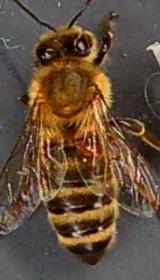varroa_mite: (74, 135, 104, 157)
